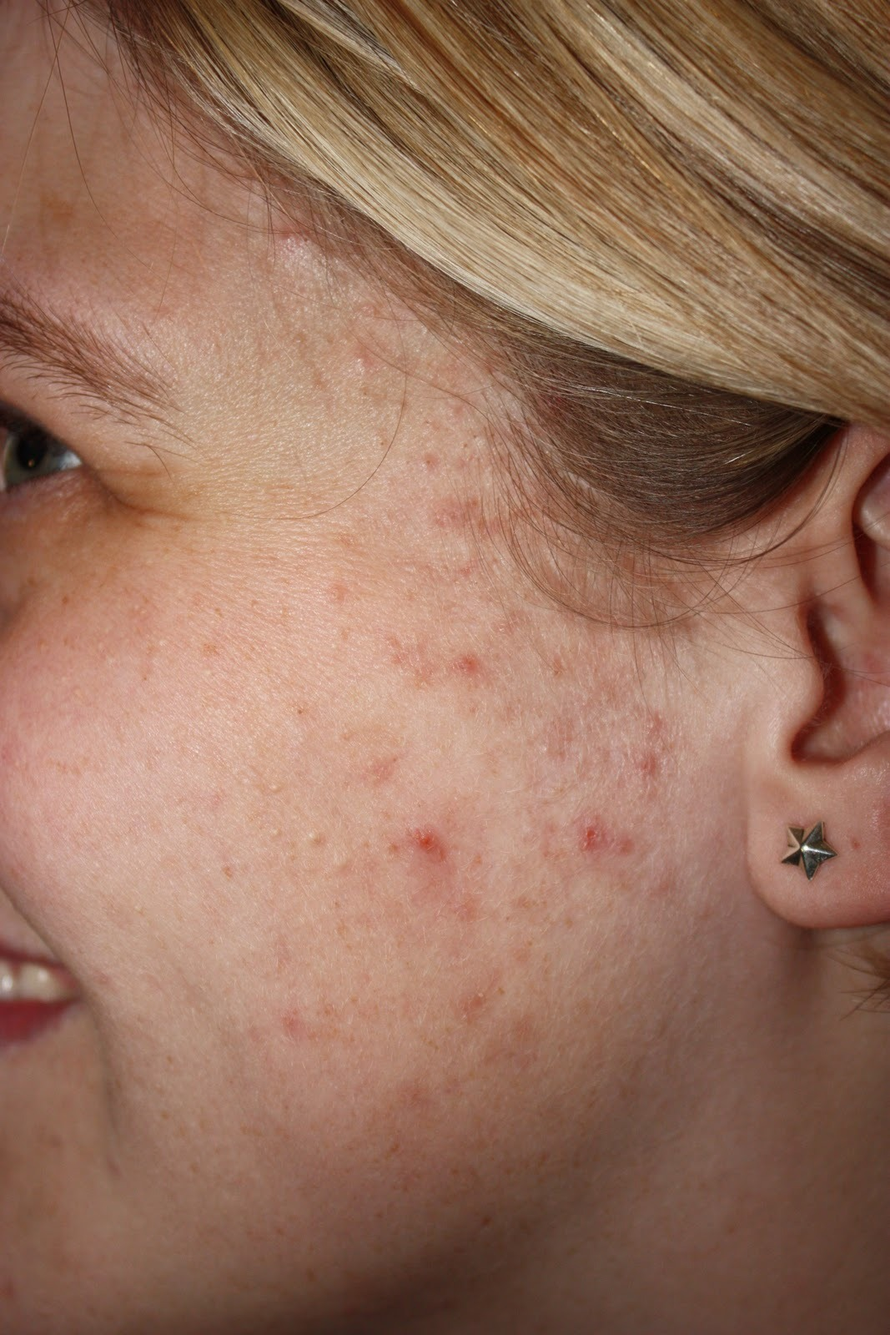Acne: (275, 450, 677, 1103)
